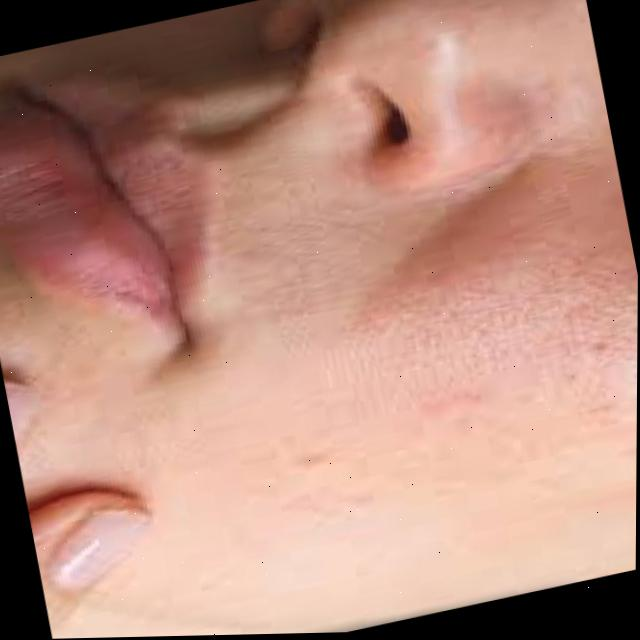Rosacea: (323, 153, 639, 441)
